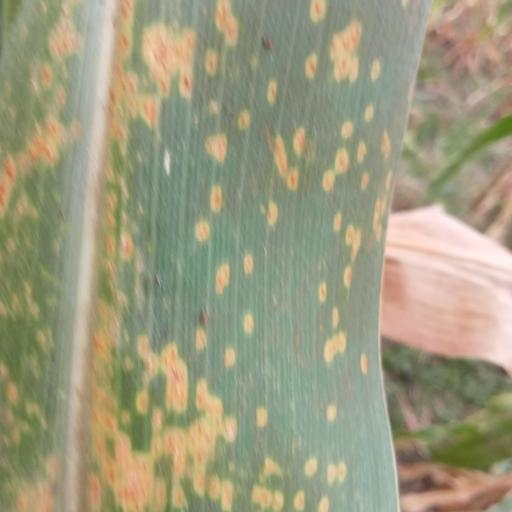Corn_Rust: (0, 0, 454, 512)
